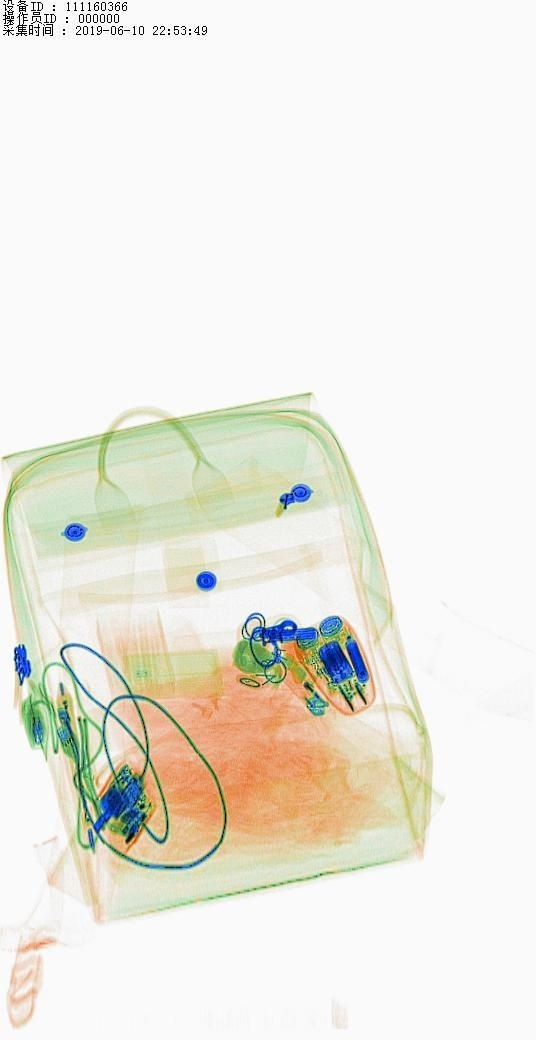NonmetallicFire: (255, 634, 359, 757)
